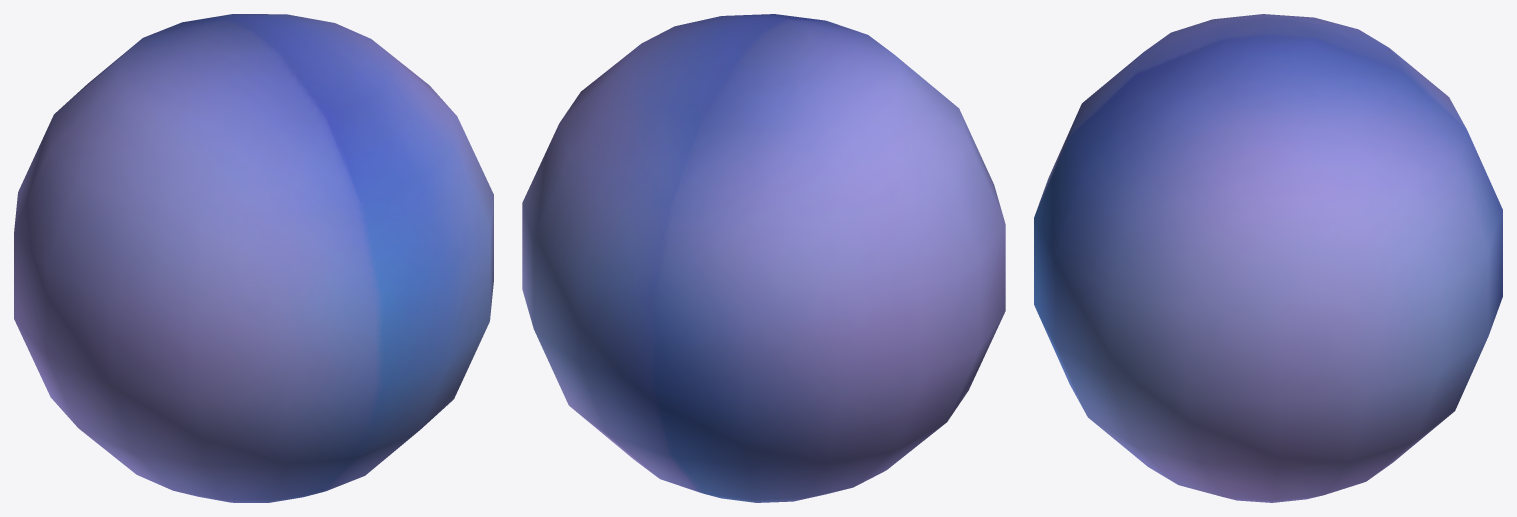
The model's file is SM_Gem_A_Silver.fbx.
3 renders of one model, left to right at view 1: azimuth 30°, elevation 25°; view 2: azimuth 150°, elevation 25°; view 3: azimuth 270°, elevation 25°, orthographic.
Parts seen in each view (by area): view 1: SM_Gem_A_Silver_LOD0; view 2: SM_Gem_A_Silver_LOD0; view 3: SM_Gem_A_Silver_LOD0.
Boxes of the visible parts, x1=… form: SM_Gem_A_Silver_LOD0: x1=14, y1=14, x2=493, y2=502; SM_Gem_A_Silver_LOD0: x1=522, y1=14, x2=1005, y2=502; SM_Gem_A_Silver_LOD0: x1=1034, y1=14, x2=1502, y2=502.
Size of the model in its own units: 4.38 by 4.23 by 4.43.
Materials: 1 (1 with a texture image).
